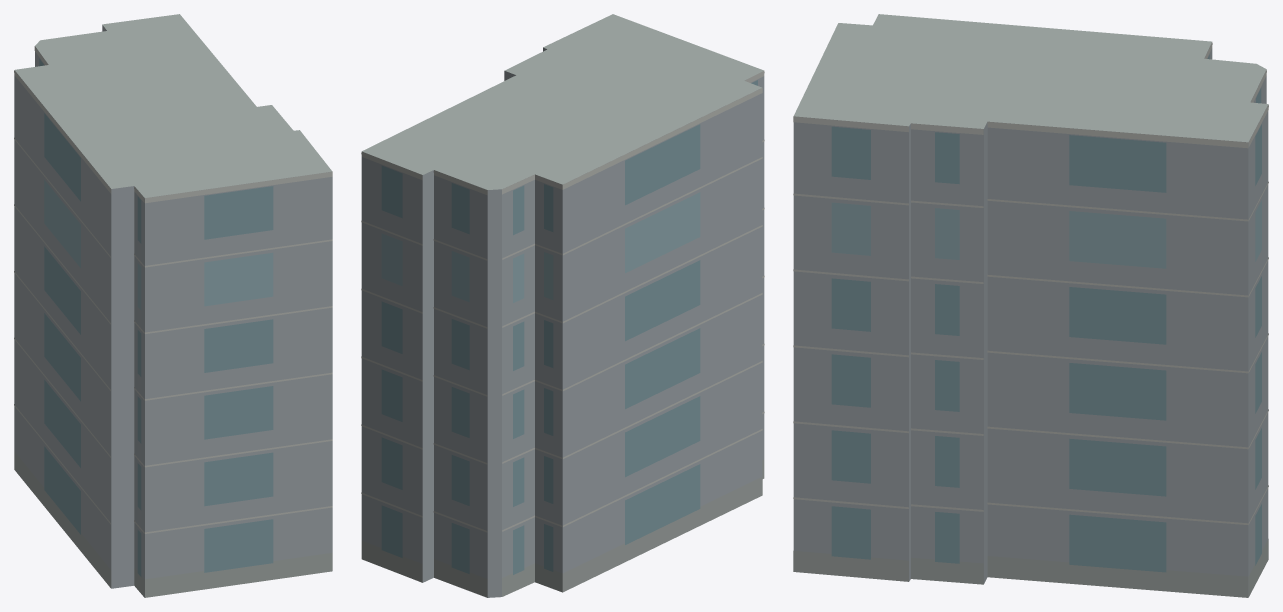
Rendered from survey-upis-32791690.glb.
3 renders of one model, left to right at view 1: azimuth 30°, elevation 25°; view 2: azimuth 150°, elevation 25°; view 3: azimuth 270°, elevation 25°, orthographic. The views are drawn at different scales.
Parts seen in each view (by area): view 1: survey-upis-32791690.tmp; view 2: survey-upis-32791690.tmp; view 3: survey-upis-32791690.tmp.
Boxes of the visible parts, x1,y1,x2,y2 form: survey-upis-32791690.tmp: [14, 14, 332, 597]; survey-upis-32791690.tmp: [361, 14, 764, 597]; survey-upis-32791690.tmp: [793, 14, 1268, 597].
Bounding box in the file's own units: 11.32 × 18.7 × 17.7.
